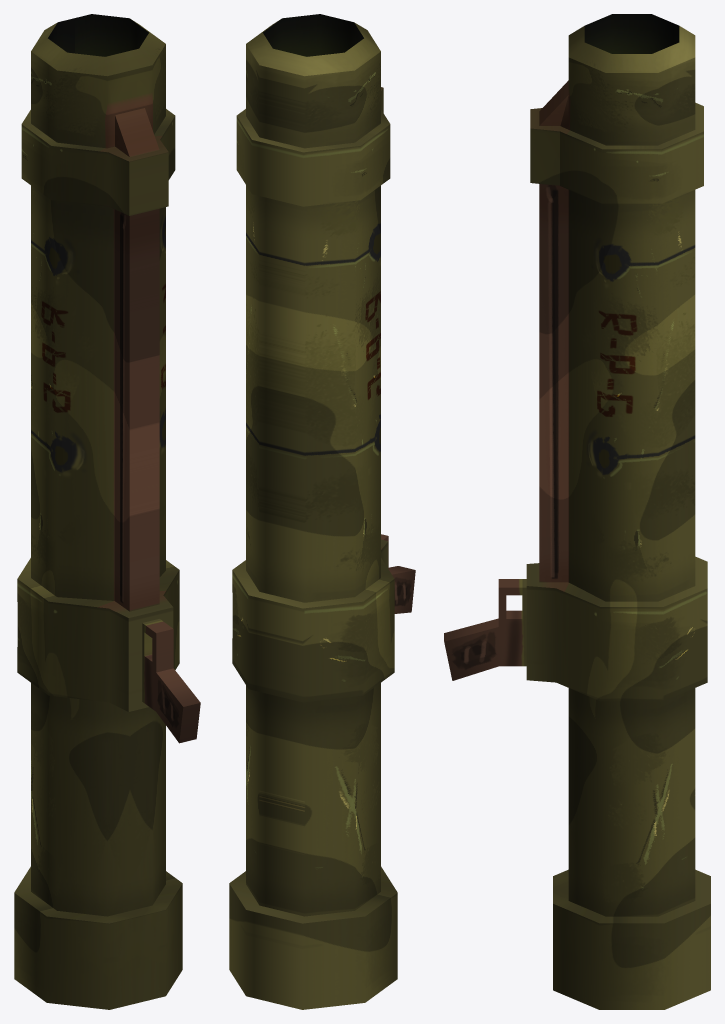
Rendered from spear_lv4.fbx.
The picture shows the model from 3 angles, left to right: view 1: azimuth 30°, elevation 25°; view 2: azimuth 150°, elevation 25°; view 3: azimuth 270°, elevation 25°; orthographic projection.
Visible parts, largest first — view 1: polySurface1; view 2: polySurface1; view 3: polySurface1.
Part boxes in pixels (x1,y1,x2,y2): polySurface1: (14,14,200,1009); polySurface1: (229,14,415,1009); polySurface1: (444,14,710,1009).
Size of the model in its own units: 0.3449 by 2.27 by 0.5832.
1 material, 1 textured.
